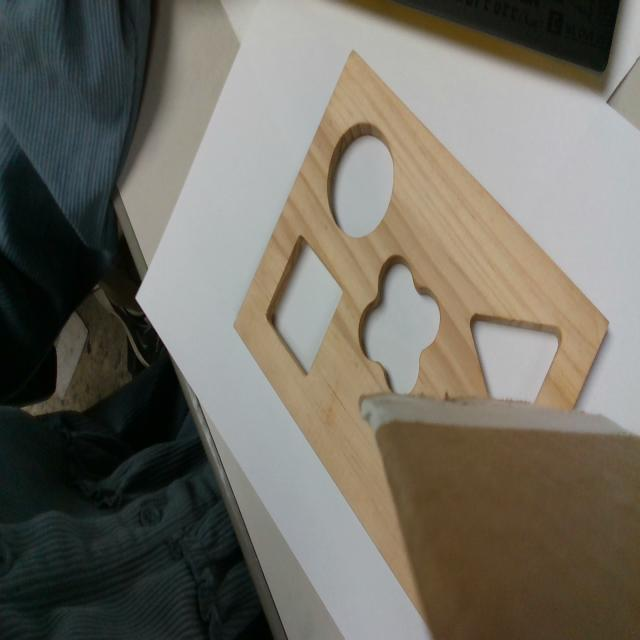circle: (329, 125, 394, 241)
flower: (357, 255, 439, 397)
square: (265, 233, 343, 377)
triangle: (470, 314, 564, 405)
